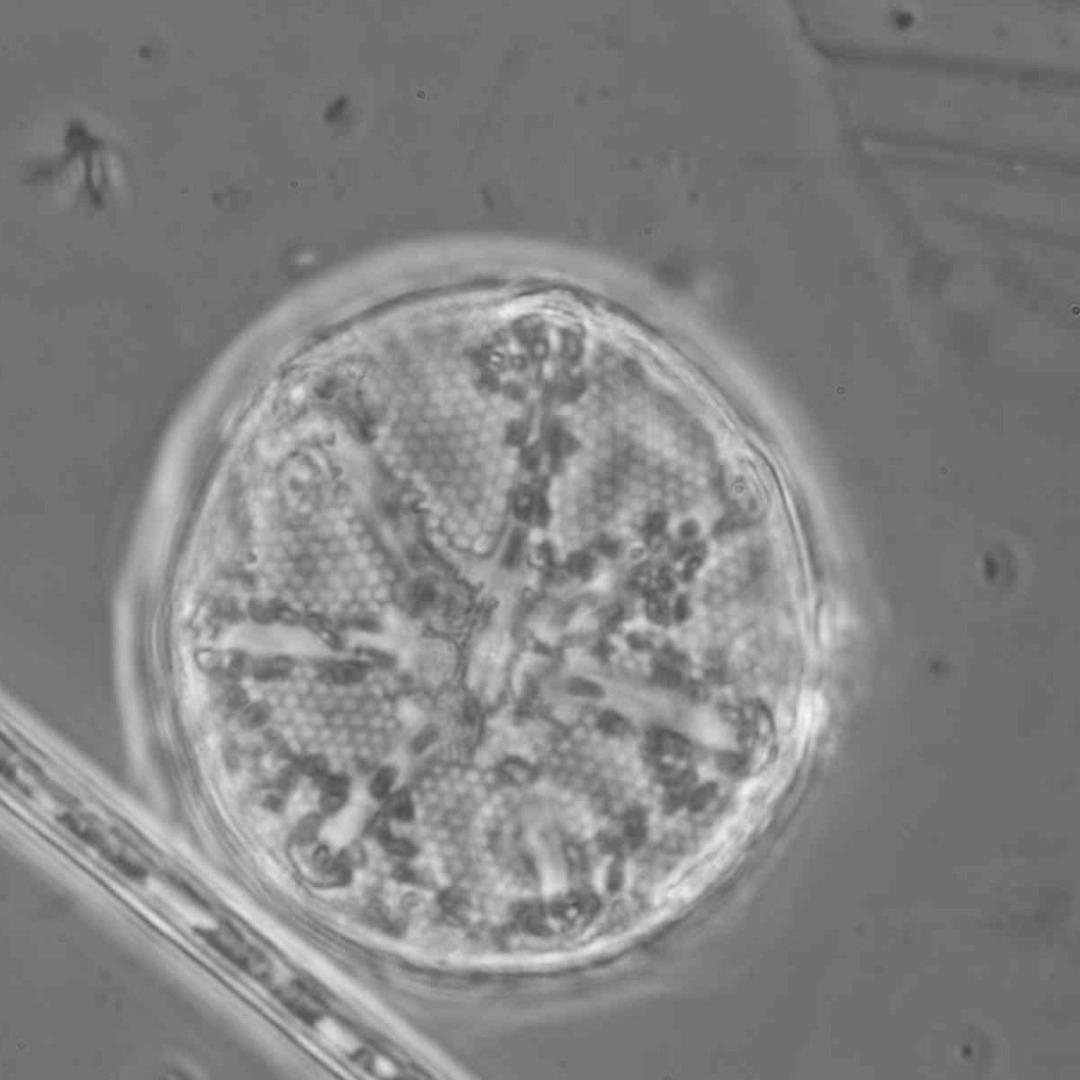asteromphalus_hyalinus: (163, 282, 811, 959)
